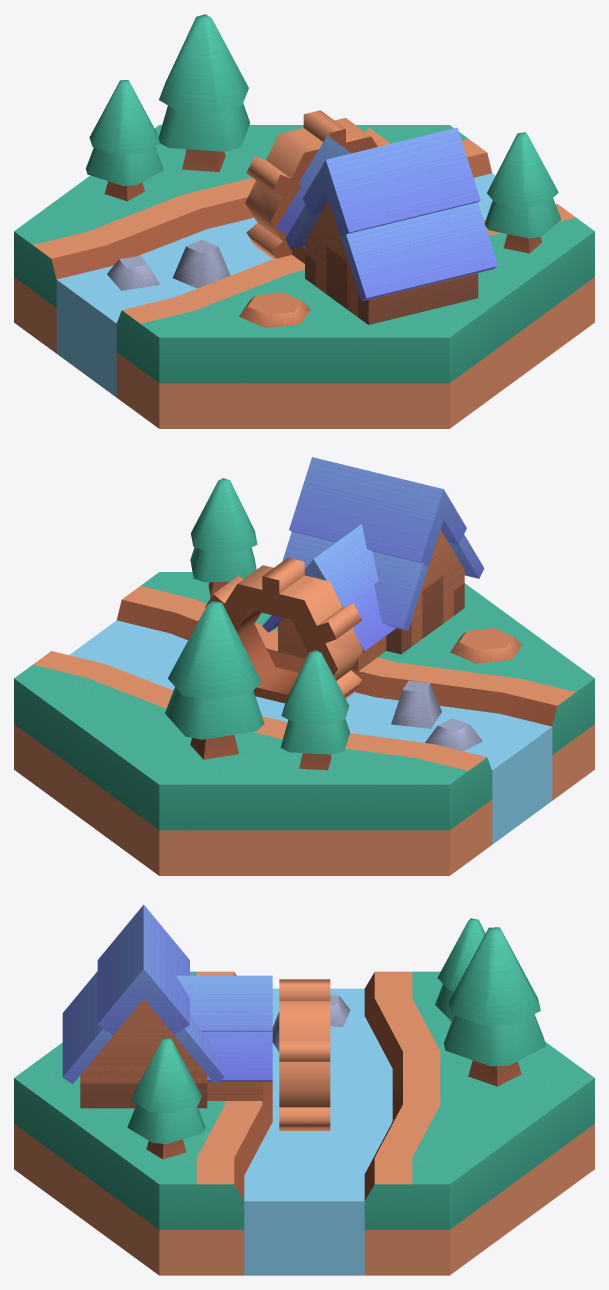
Rendered from kenney-hexagon__building-watermill.glb.
The picture shows the model from 3 angles, top to bottom: view 1: azimuth 30°, elevation 25°; view 2: azimuth 150°, elevation 25°; view 3: azimuth 270°, elevation 25°; orthographic projection.
Visible parts, largest first — view 1: building-watermill, rotate-z; view 2: building-watermill, rotate-z; view 3: building-watermill, rotate-z.
Boxes of the visible parts, box(x1,y1,x2,y2) form: building-watermill: box(14, 14, 594, 428); rotate-z: box(245, 110, 390, 259); building-watermill: box(14, 457, 594, 875); rotate-z: box(205, 557, 363, 703); building-watermill: box(14, 904, 594, 1275); rotate-z: box(279, 979, 330, 1130).
Bounding box in the file's own units: 1 × 0.5192 × 1.15.
Materials: 1 (1 with a texture image).
